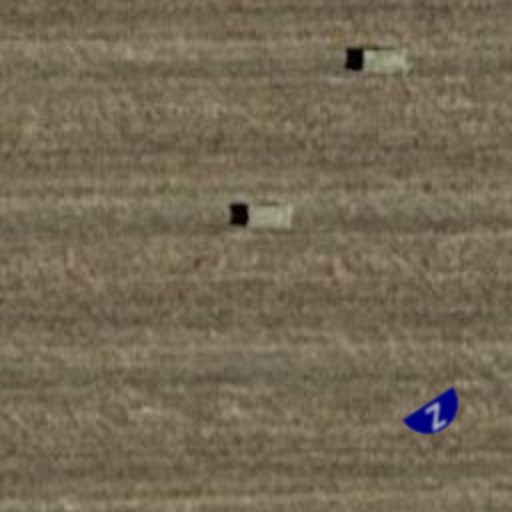semicircle: (392, 372, 480, 460)
